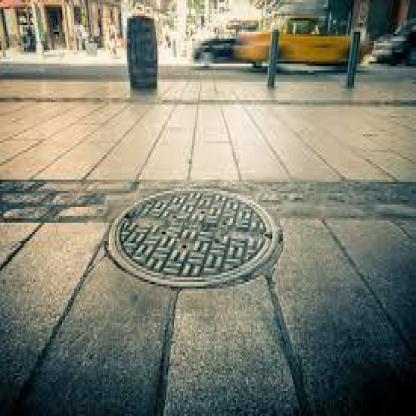manholes: (92, 152, 303, 312)
